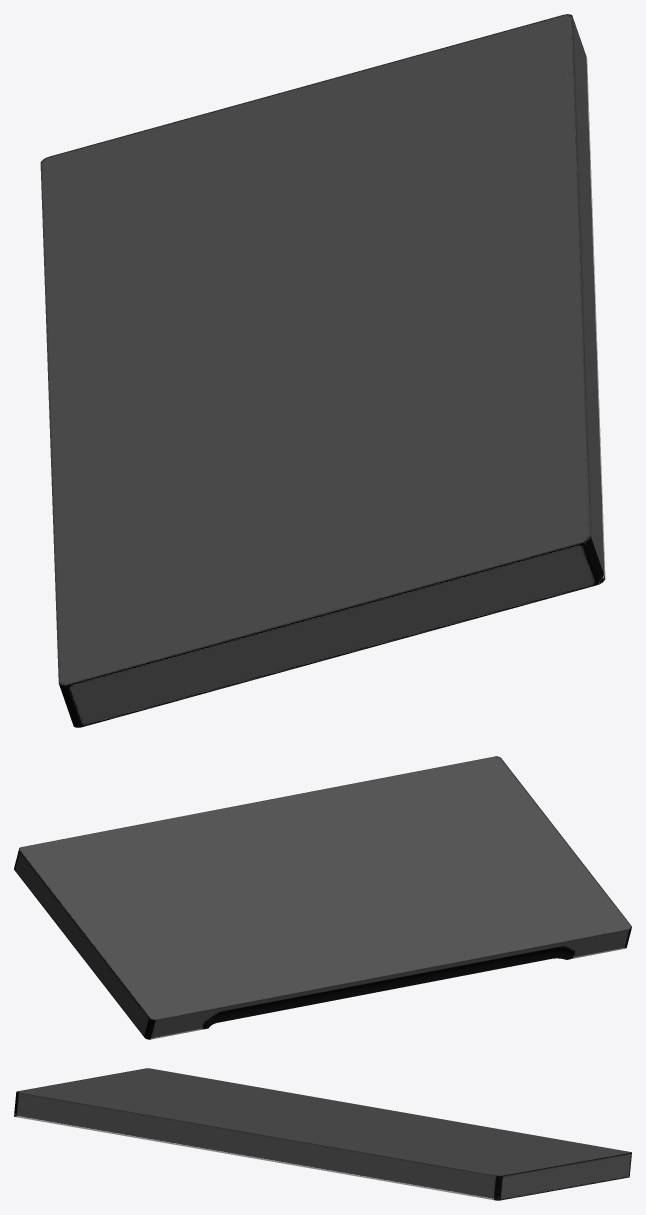
File: HHW.gltf
3 views of the same model, one above another, from view 1: azimuth 30°, elevation 25°; view 2: azimuth 150°, elevation 25°; view 3: azimuth 270°, elevation 25° (orthographic). The views are drawn at different scales.
Parts seen in each view (by area): view 1: node_id3; view 2: node_id3; view 3: node_id3.
Part boxes in pixels (box(x1,y1,x2,y2)): node_id3: box(40, 14, 605, 727); node_id3: box(14, 756, 631, 1039); node_id3: box(14, 1068, 631, 1200).
Bounding box in the file's own units: 0.4635 × 0.1262 × 0.5686.
Materials: 1 (1 with a texture image).
